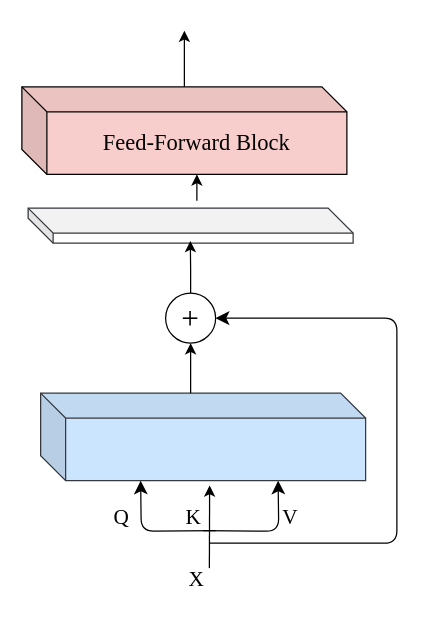
Image size: 431x628. Some labels were removed from this diagram. The shapes that lost their labels are listed below. From the top down, each one's box as (x1, y1, x2, y2) in pixels, then its label:
(27, 207, 353, 243): Layer Normalizer
(39, 392, 366, 481): Multi-Head Attention
